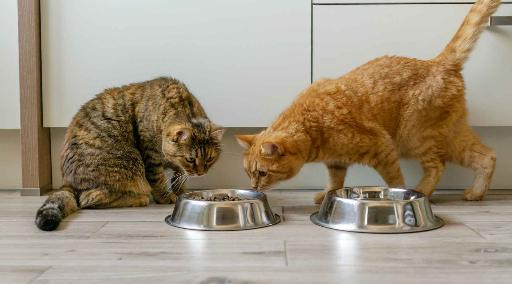cat_eating: (237, 0, 500, 234), (35, 77, 281, 231)
